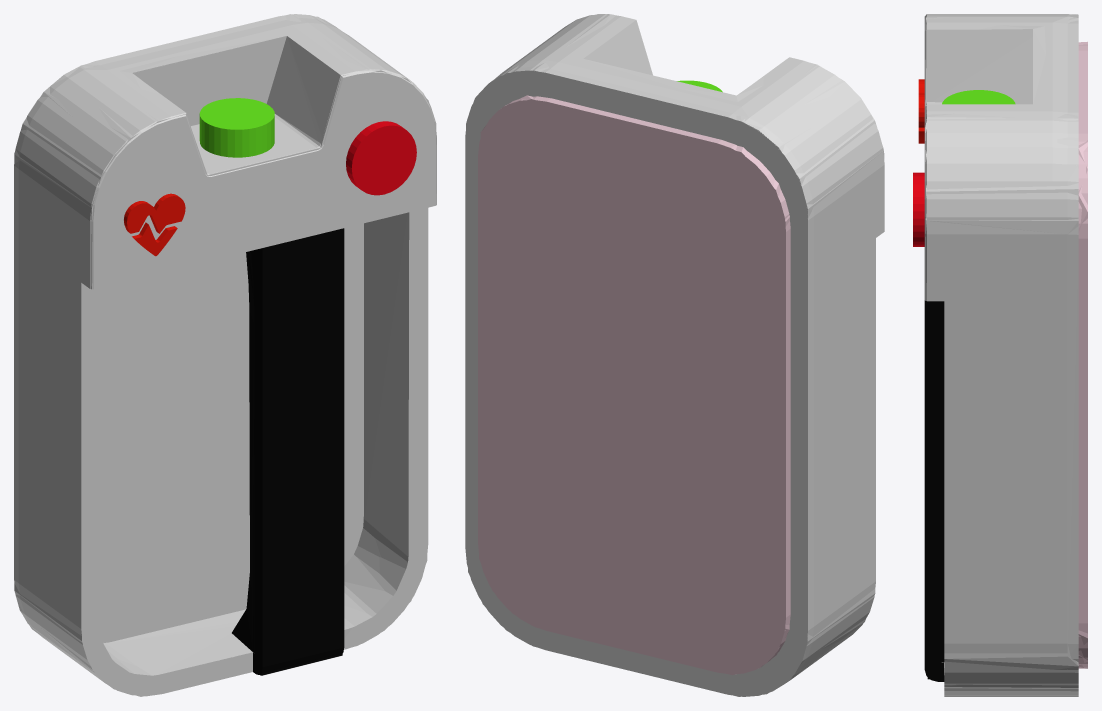
File: defibrillator_left.fbx
3 views of the same model, side by side, from view 1: azimuth 30°, elevation 25°; view 2: azimuth 150°, elevation 25°; view 3: azimuth 270°, elevation 25° (orthographic).
Parts seen in each view (by area): view 1: defibrillator_left, defibrillator_left_low; view 2: defibrillator_left, defibrillator_left_low; view 3: defibrillator_left, defibrillator_left_low.
Part boxes in pixels (bbox=[...]): defibrillator_left: bbox=[14, 14, 436, 696]; defibrillator_left_low: bbox=[14, 14, 436, 696]; defibrillator_left: bbox=[465, 14, 884, 696]; defibrillator_left_low: bbox=[466, 14, 884, 696]; defibrillator_left: bbox=[913, 14, 1087, 695]; defibrillator_left_low: bbox=[925, 14, 1087, 696].
Size of the model in its own units: 8708 by 14023 by 3848.
